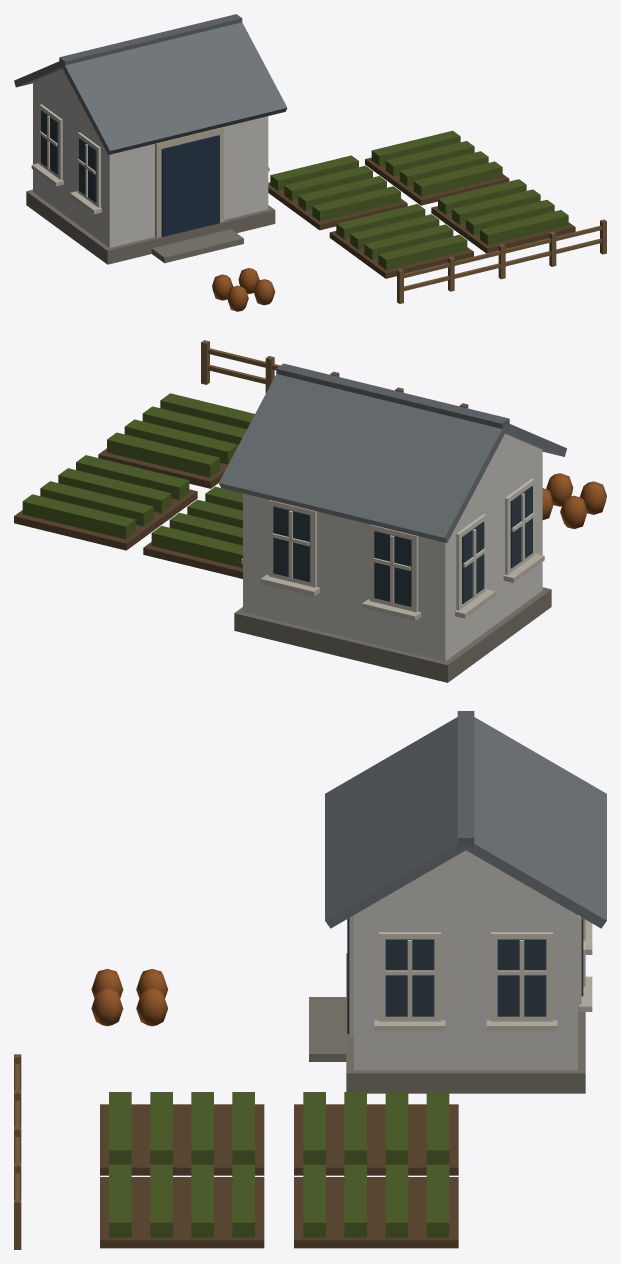
The model's file is procedural_cocoa_farm@6.glb.
3 renders of one model, top to bottom at view 1: azimuth 30°, elevation 25°; view 2: azimuth 150°, elevation 25°; view 3: azimuth 270°, elevation 25°, orthographic. The views are drawn at different scales.
Visible parts, largest first — view 1: part_0; view 2: part_0; view 3: part_0.
Part boxes in pixels (bbox=[...]): part_0: bbox=[14, 14, 606, 311]; part_0: bbox=[14, 340, 606, 682]; part_0: bbox=[14, 711, 606, 1249].
Bounding box in the file's own units: 8.86 × 3.83 × 7.94.
